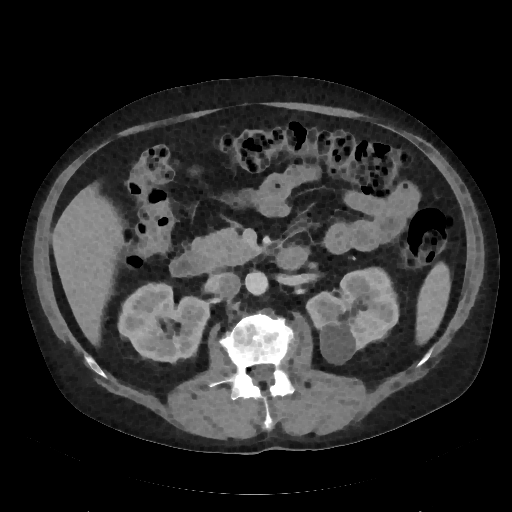Lesion: (317, 321, 360, 370)
